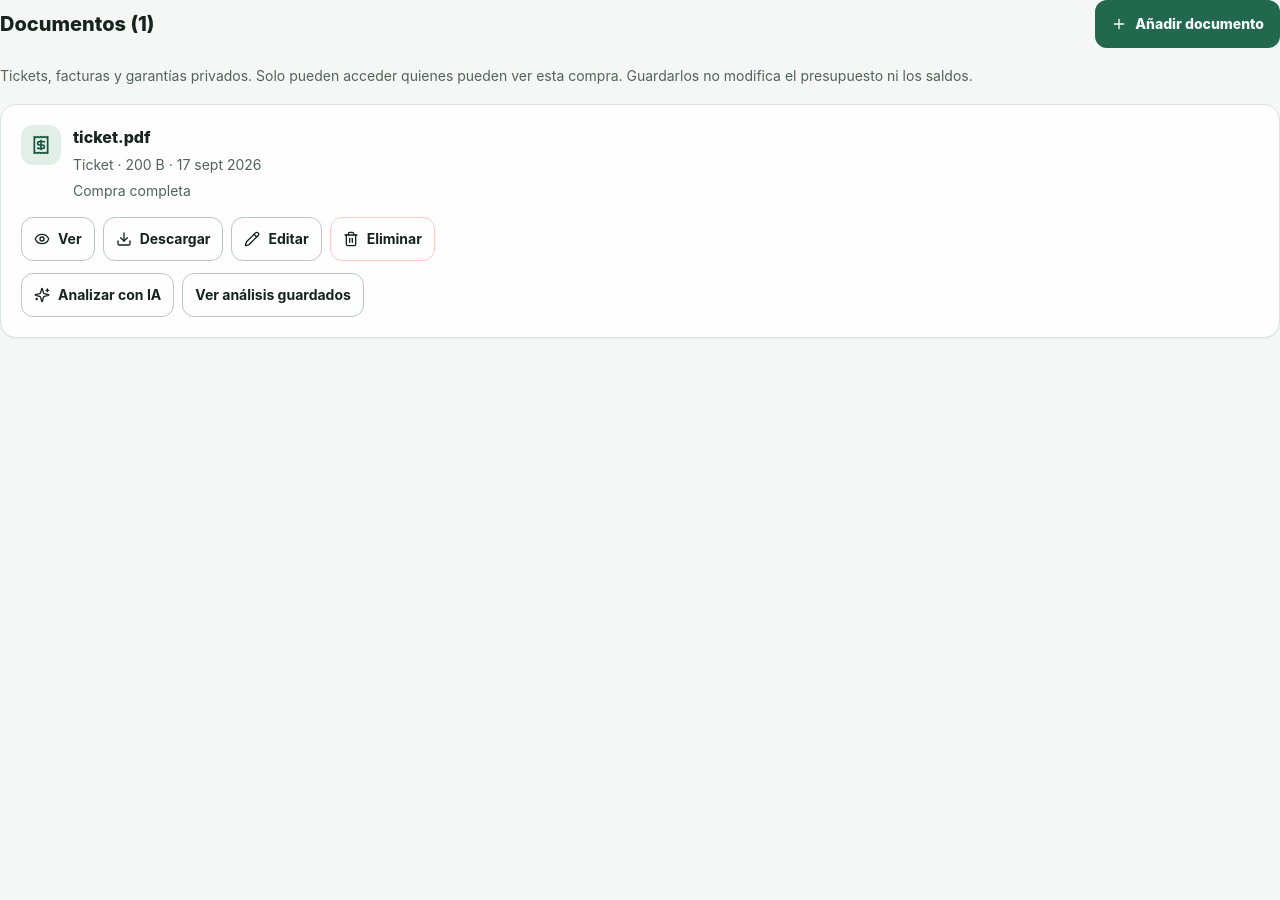
Test: PurchaseDocumentAnalysisPanel › cancels only the edited draft, keeps server analysis, clears private review cache and can reopen it
Step 1. Click the button with aria-label "Ver análisis de ticket.pdf" → (273,295), box [182, 273, 364, 317]
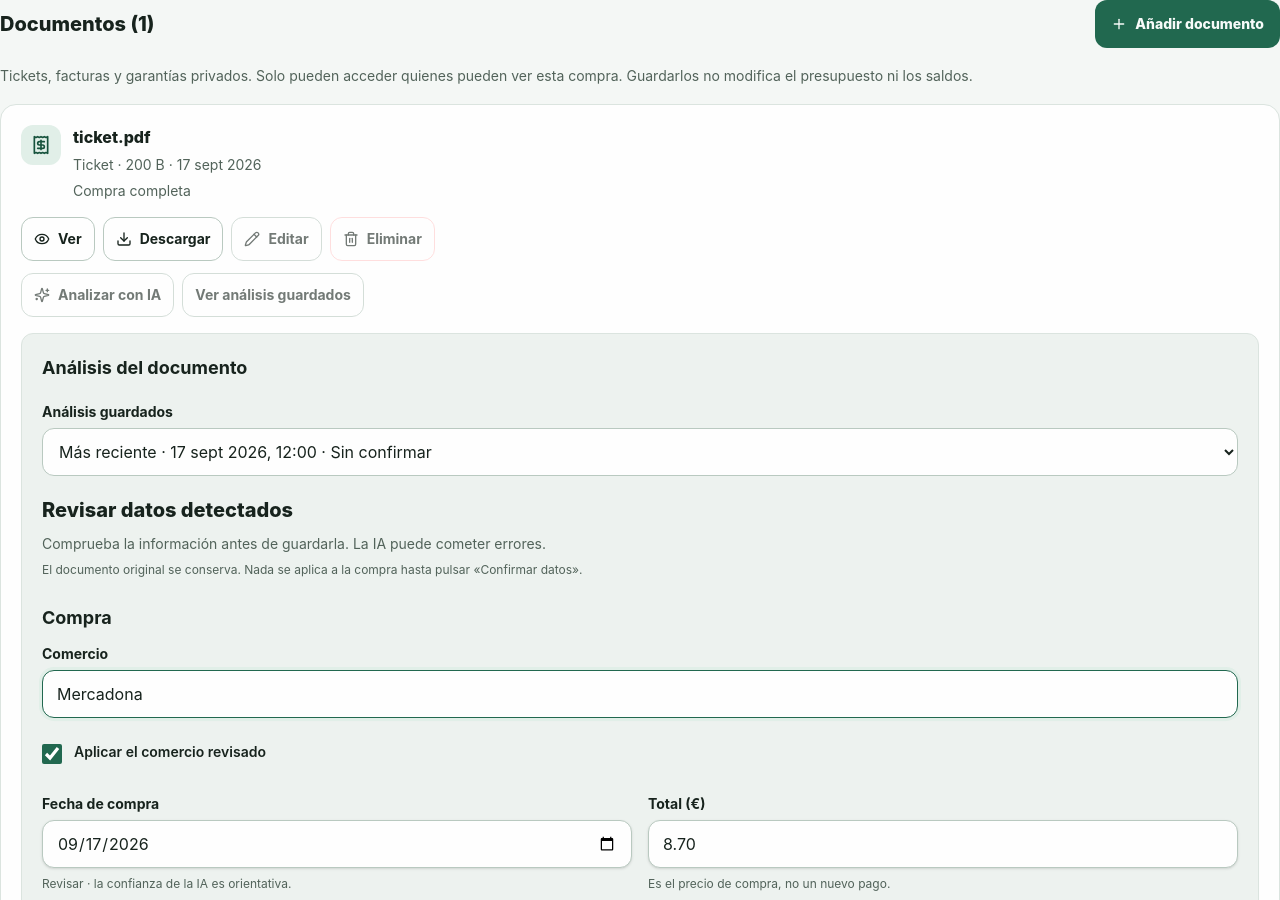
Step 2. Type " borrador" into the field labelled "Comercio" → (640,694), box [42, 670, 1238, 718]
(page scrolled)
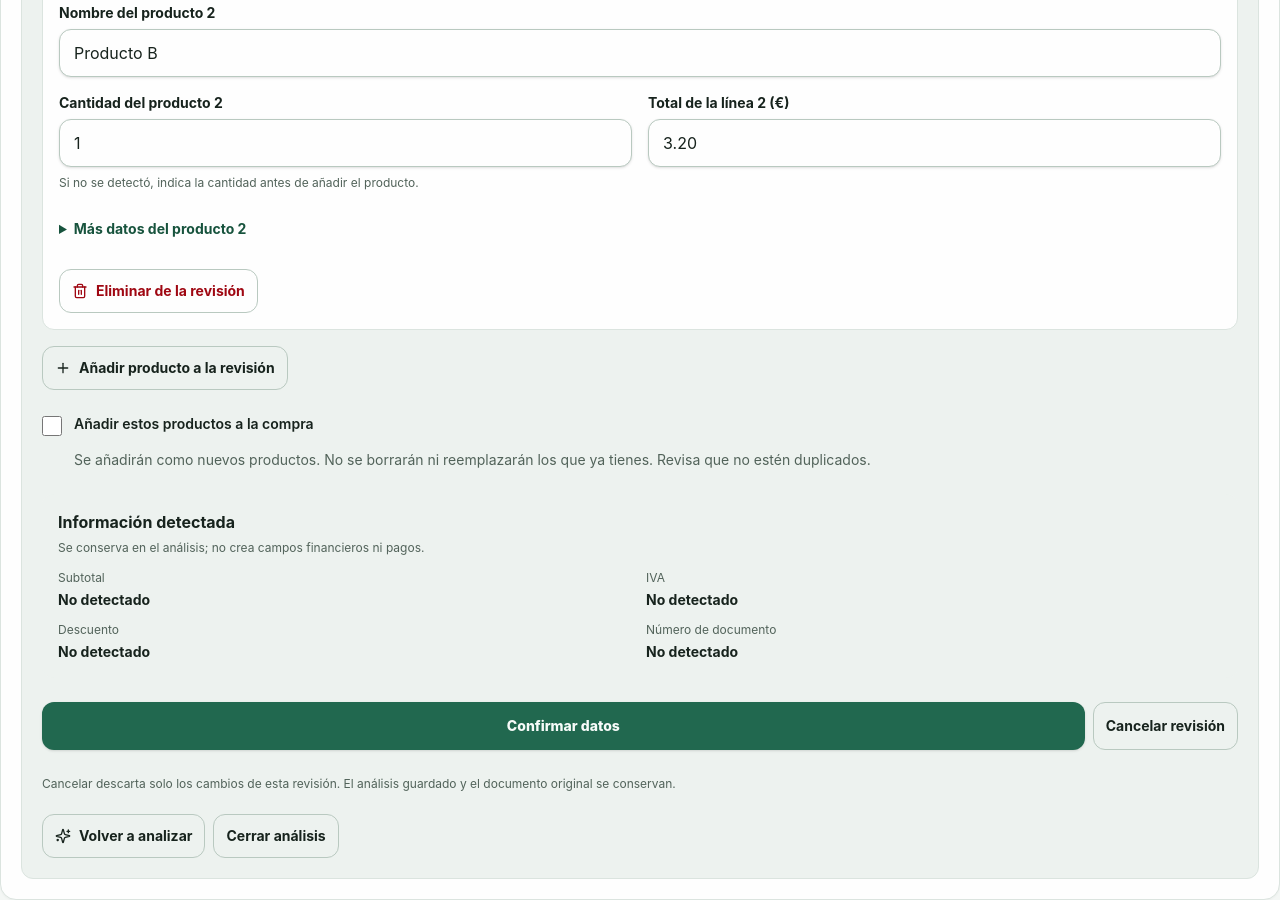
Step 3. Click the button "Cancelar revisión" → (1165,726), box [1093, 702, 1238, 750]
(page scrolled)
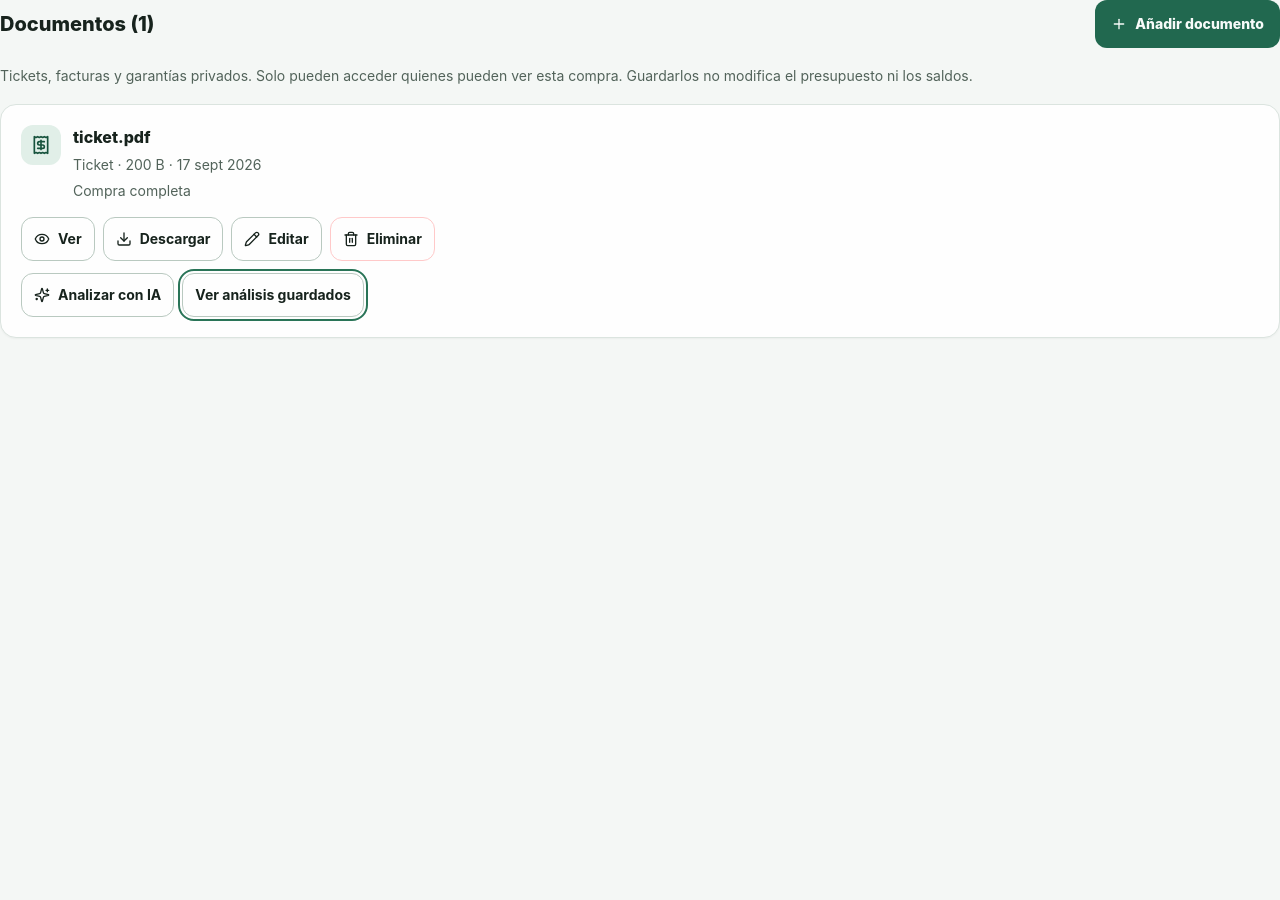
Step 4. Click the button with aria-label "Ver análisis de ticket.pdf" → (273,295), box [182, 273, 364, 317]
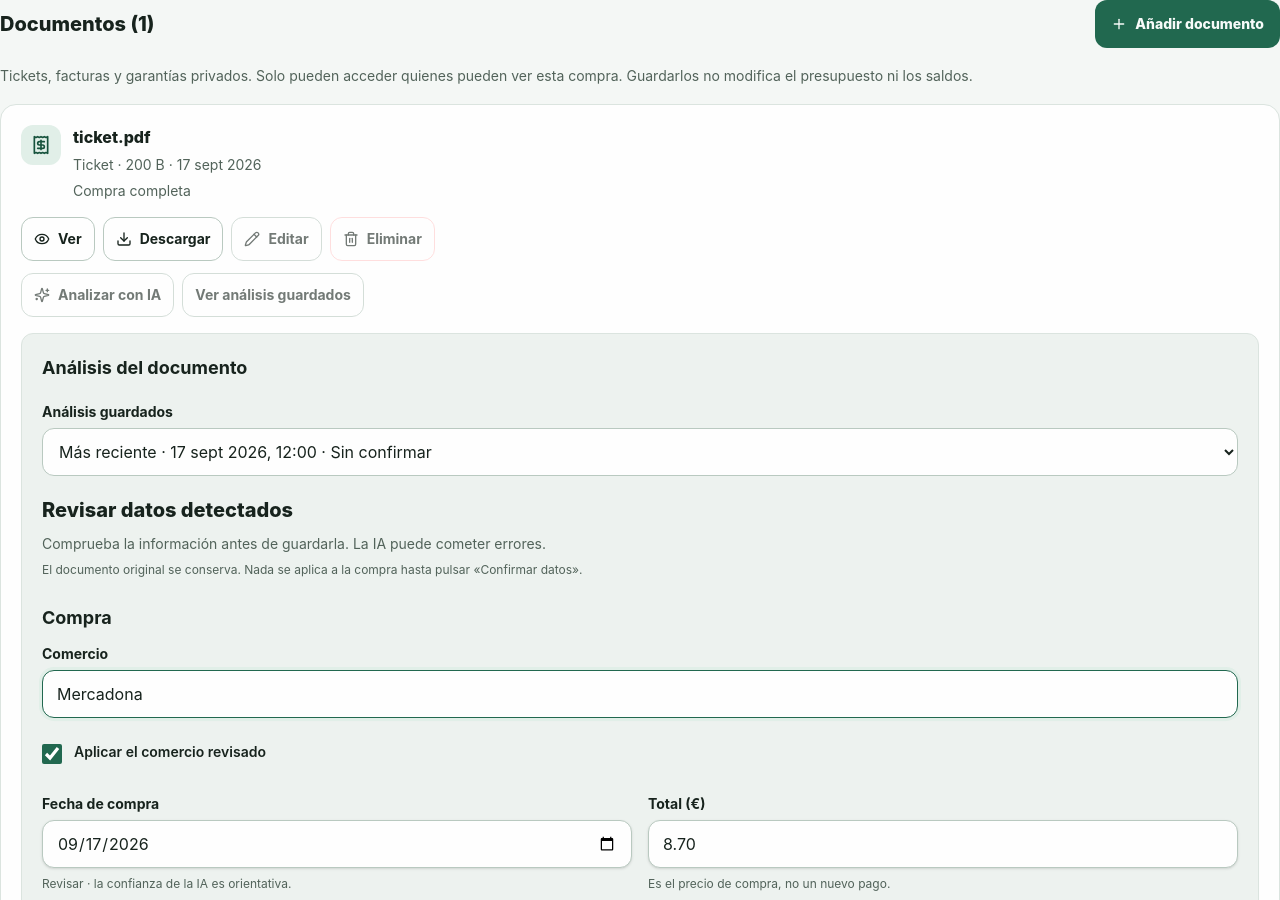
Result: the field labelled "Comercio" holds "Mercadona" at [42, 670, 1238, 718]
